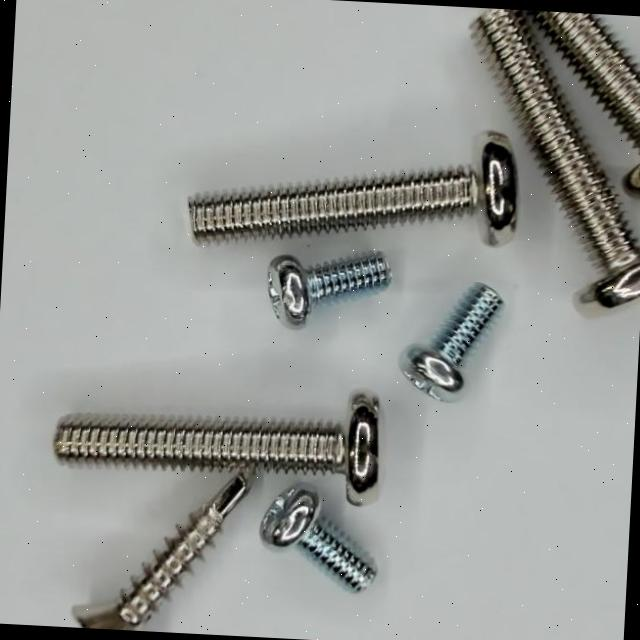Screw: (475, 9, 640, 307), (188, 130, 519, 246), (53, 394, 380, 506), (72, 475, 247, 630), (528, 10, 640, 149), (401, 283, 503, 401), (261, 489, 377, 592), (268, 252, 392, 328)
